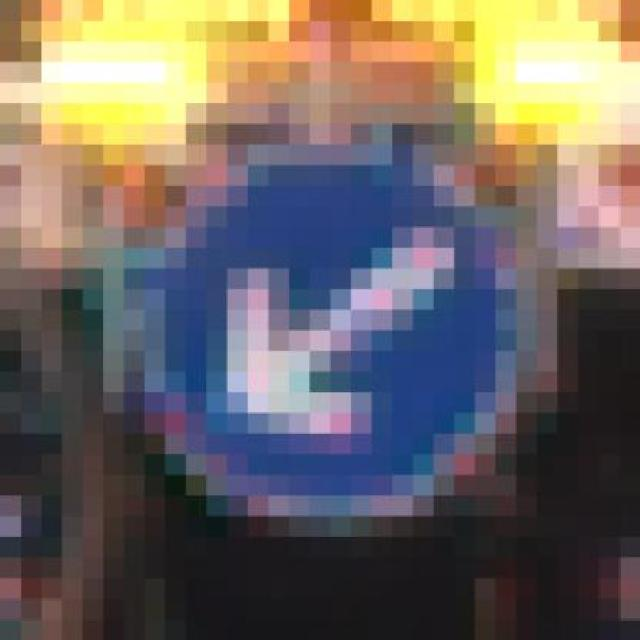Keep-Left: (123, 145, 537, 537)
